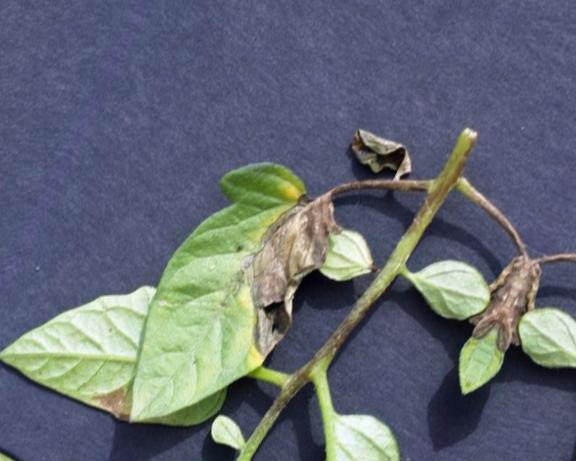Tomato leaf late blight: (96, 131, 377, 461)
